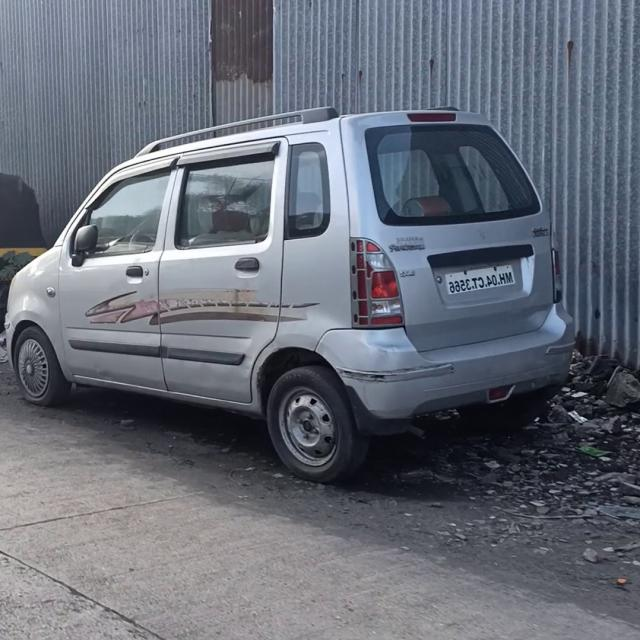license_plate: (435, 256, 524, 303)
